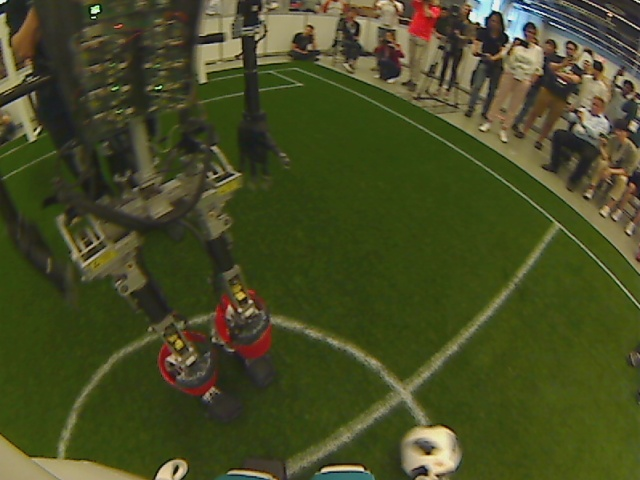ball: (393, 421, 470, 480)
